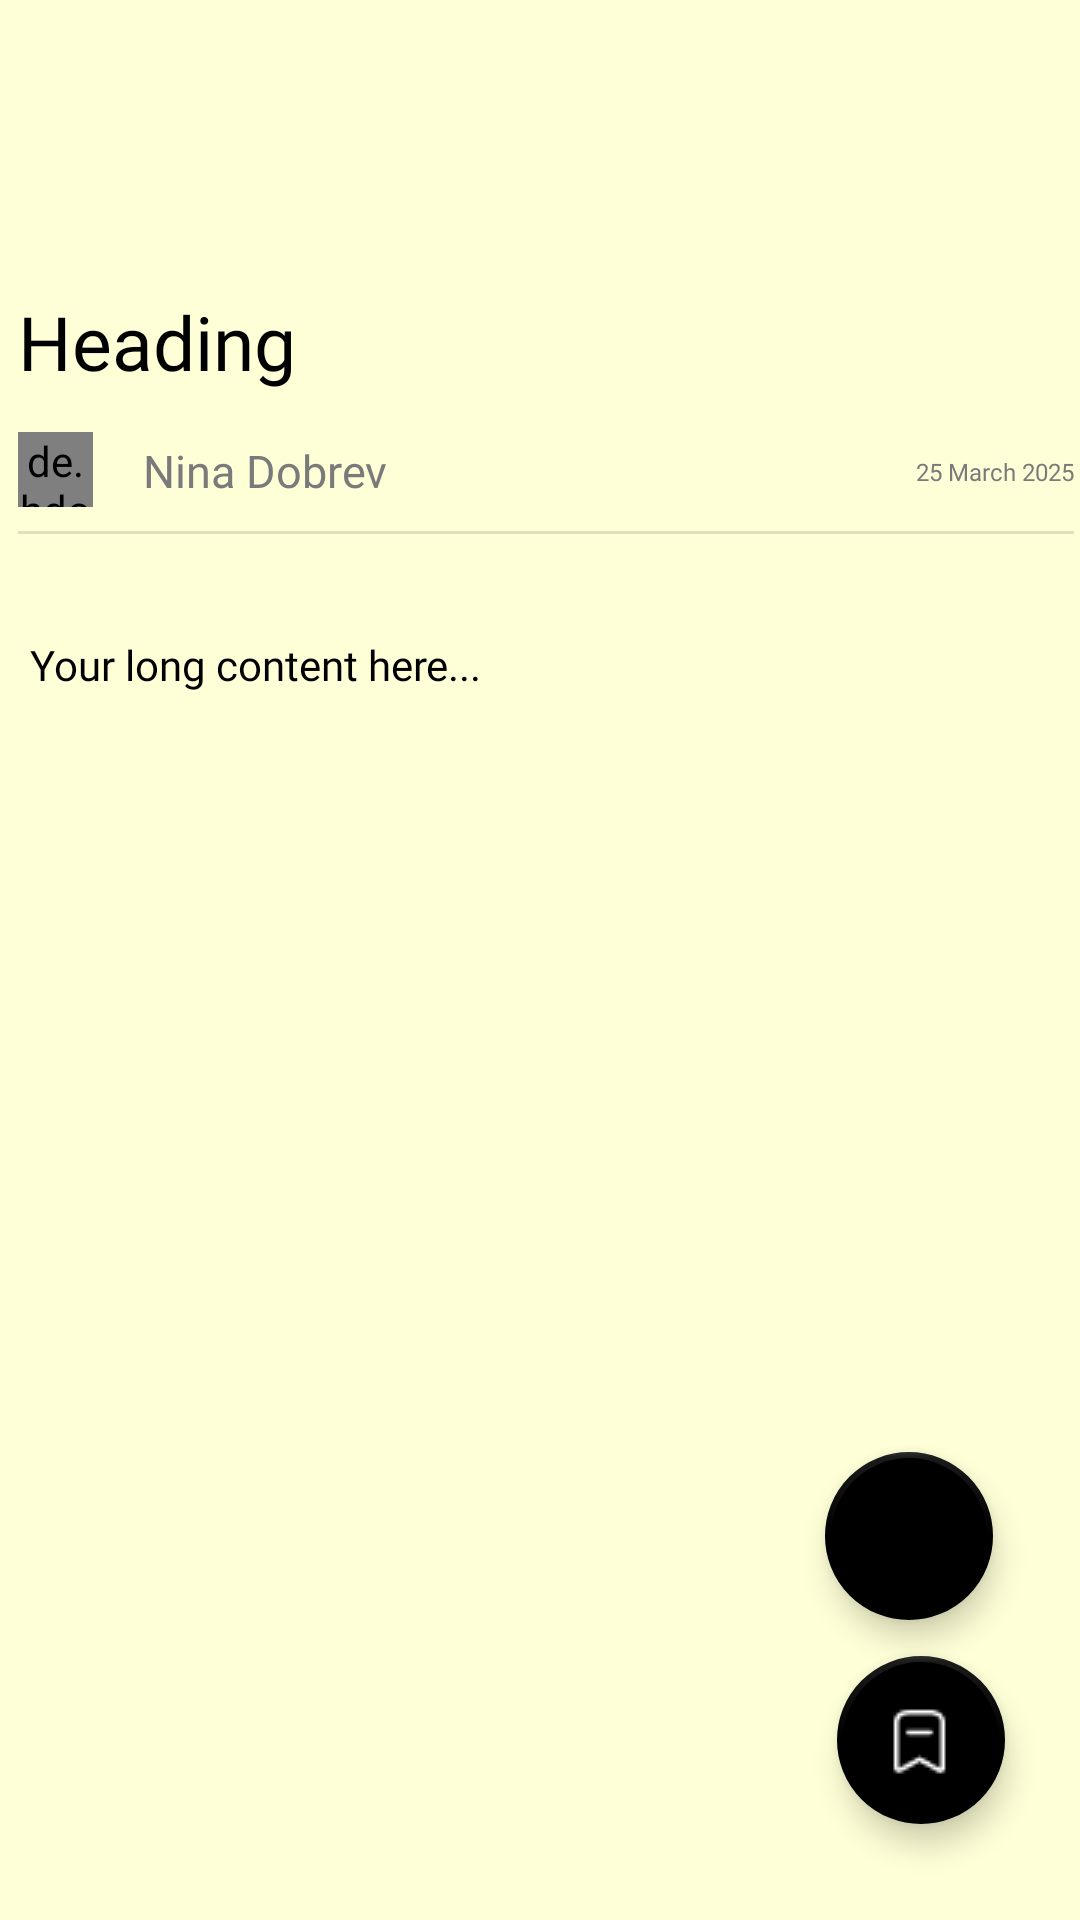

Where icons sit on this 1080w x 1920h app screen, as (x1, y1, x2, y2):
save: (837, 1656, 1005, 1824)
